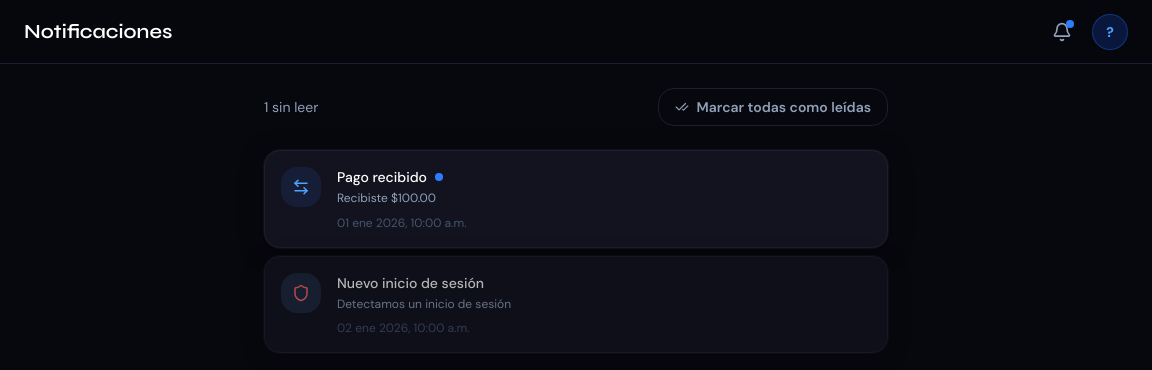
it: NotificationsPage › "Marcar todas como leídas" marks every notification read and shows a toast
The width and height of the screenshot is (1152, 370).
expect the text "1 sin leer" is shown: met, box [264, 97, 318, 117]
Click the button "Marcar todas como leídas" at [773, 107], box [658, 88, 888, 126]
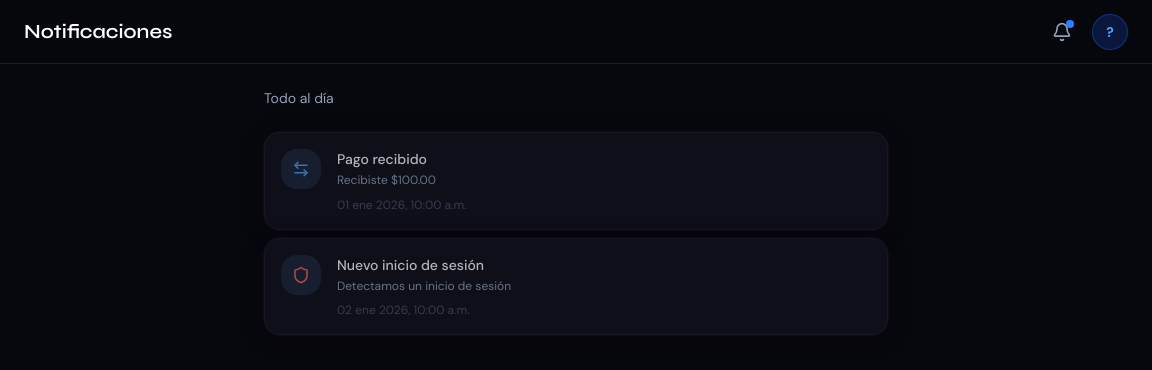
expect the text "Todo al día" is shown: met, box [264, 88, 334, 108]
